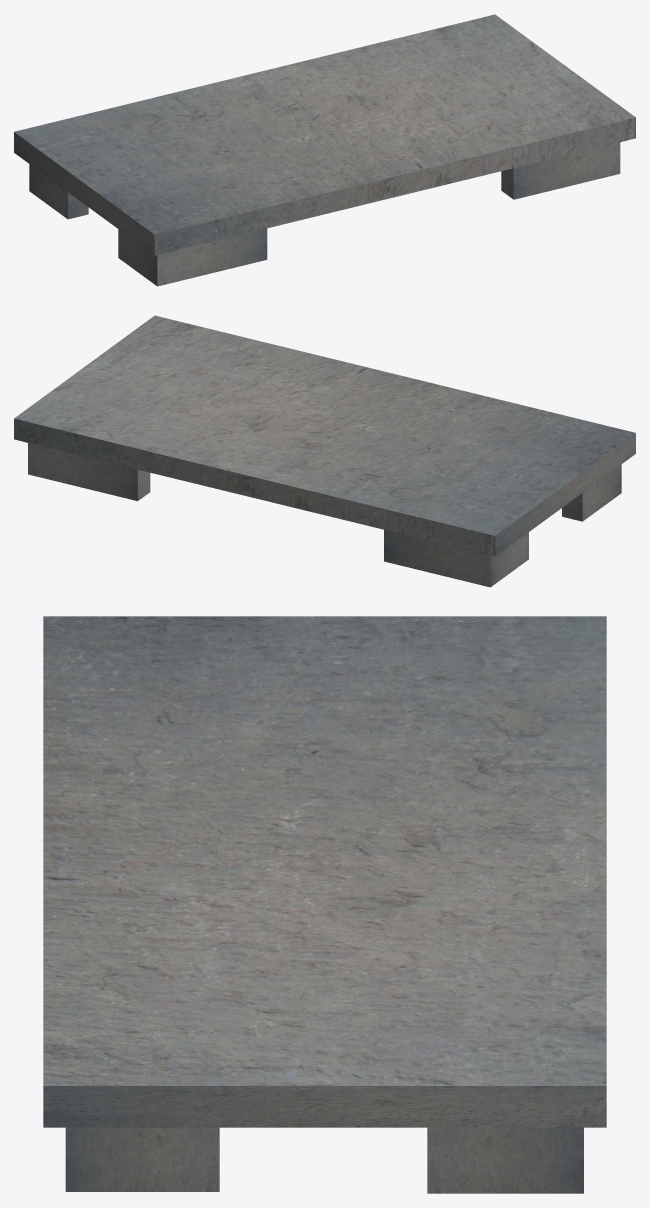
File: 汉代石桌.FBX
3 renders of one model, top to bottom at view 1: azimuth 30°, elevation 25°; view 2: azimuth 150°, elevation 25°; view 3: azimuth 270°, elevation 25°, orthographic. The views are drawn at different scales.
Parts seen in each view (by area): view 1: Box001; view 2: Box001; view 3: Box001.
Part boxes in pixels (x1=…): Box001: x1=14, y1=14, x2=635, y2=286; Box001: x1=14, y1=315, x2=635, y2=587; Box001: x1=43, y1=616, x2=606, y2=1193.
Bounding box in the file's own units: 78.47 × 9.03 × 39.78.
Materials: 1 (1 with a texture image).
